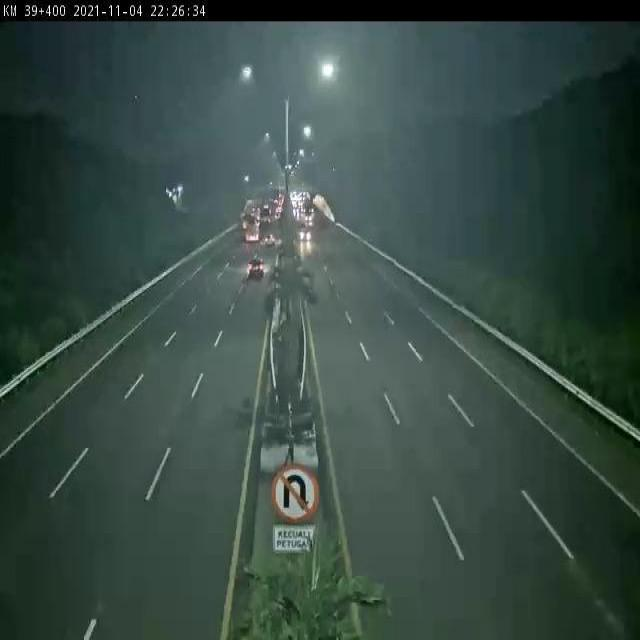car: (248, 254, 271, 282)
